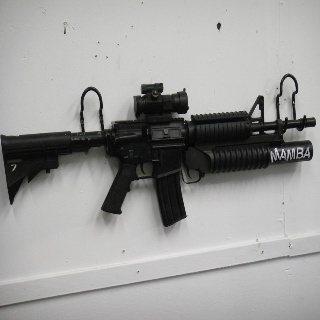rifle: (2, 71, 317, 228)
